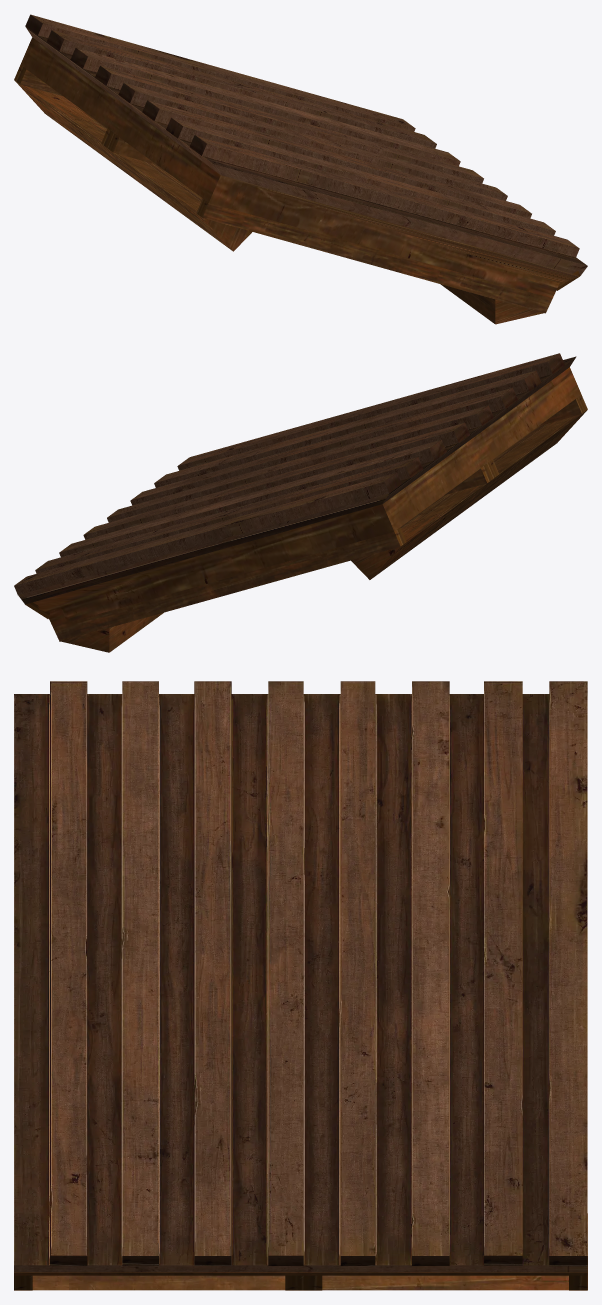
3 views of the same model, one above another, from view 1: azimuth 30°, elevation 25°; view 2: azimuth 150°, elevation 25°; view 3: azimuth 270°, elevation 25° (orthographic). The views are drawn at different scales.
Parts seen in each view (by area): view 1: SM_BB_T2_Roof_Large_Shallow_LOD0; view 2: SM_BB_T2_Roof_Large_Shallow_LOD0; view 3: SM_BB_T2_Roof_Large_Shallow_LOD0.
Boxes of the visible parts, bbox=[...] form: SM_BB_T2_Roof_Large_Shallow_LOD0: bbox=[14, 14, 587, 324]; SM_BB_T2_Roof_Large_Shallow_LOD0: bbox=[14, 353, 587, 652]; SM_BB_T2_Roof_Large_Shallow_LOD0: bbox=[14, 681, 587, 1290].
Bounding box in the file's own units: 3.58 × 2.11 × 3.
2 materials, 2 textured.
